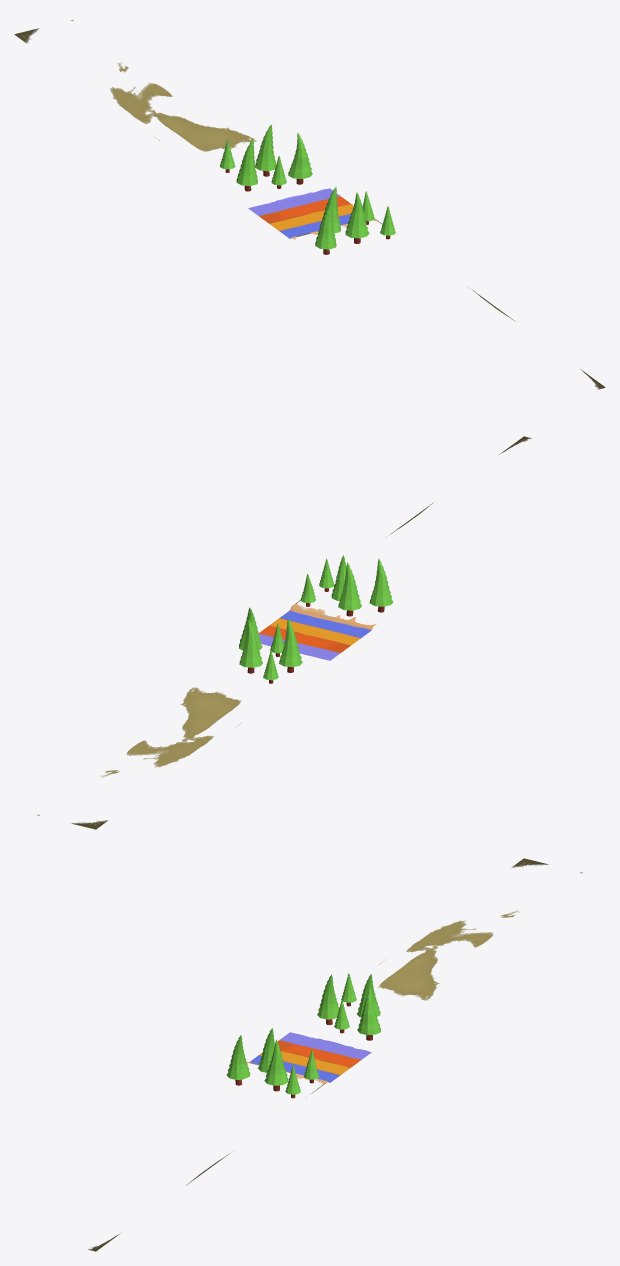
The model's file is forestPart3.fbx.
3 renders of one model, top to bottom at view 1: azimuth 30°, elevation 25°; view 2: azimuth 150°, elevation 25°; view 3: azimuth 330°, elevation 25°, orthographic.
Visible parts, largest first — view 1: foretPart3; view 2: foretPart3; view 3: foretPart3.
Boxes of the visible parts, x1=… form: foretPart3: x1=14, y1=19, x2=605, y2=389; foretPart3: x1=37, y1=436, x2=531, y2=829; foretPart3: x1=88, y1=858, x2=582, y2=1251.
Size of the model in its own units: 1675 by 1031 by 18053.
